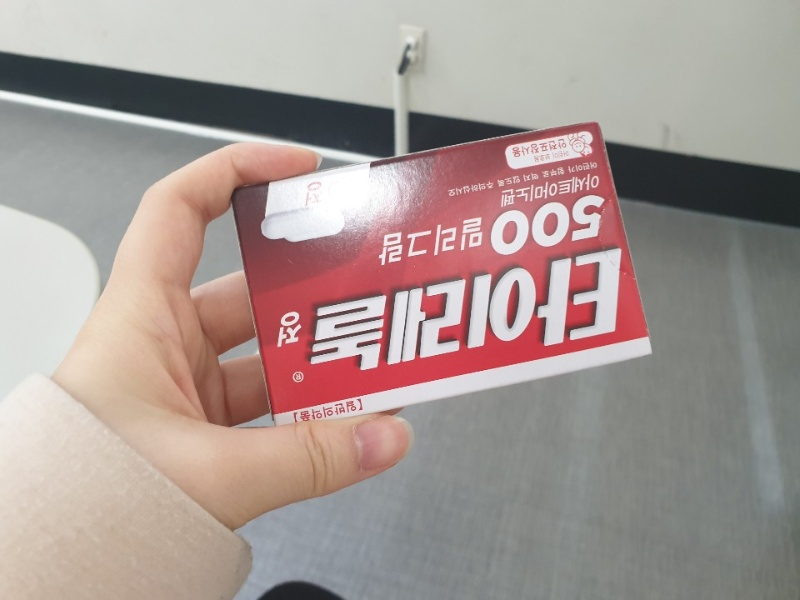tylenol: (228, 123, 654, 421)
